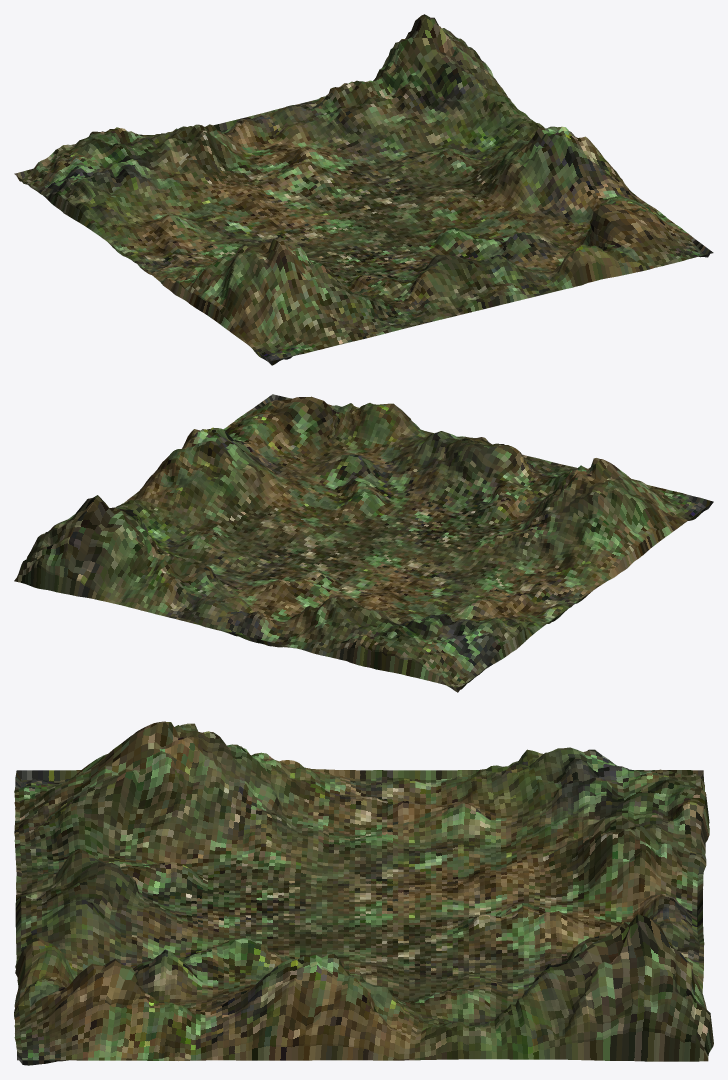
The model's file is azylworld2.glb.
3 views of the same model, one above another, from view 1: azimuth 30°, elevation 25°; view 2: azimuth 150°, elevation 25°; view 3: azimuth 270°, elevation 25° (orthographic). The views are drawn at different scales.
Parts seen in each view (by area): view 1: Plane; view 2: Plane; view 3: Plane.
Part boxes in pixels (x1,y1,x2,y2): Plane: [14, 14, 713, 365]; Plane: [14, 394, 713, 692]; Plane: [14, 721, 713, 1065].
Bounding box in the file's own units: 64.05 × 12.54 × 64.18.
Materials: 1 (1 with a texture image).
